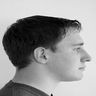ear: (27, 40, 54, 69)
